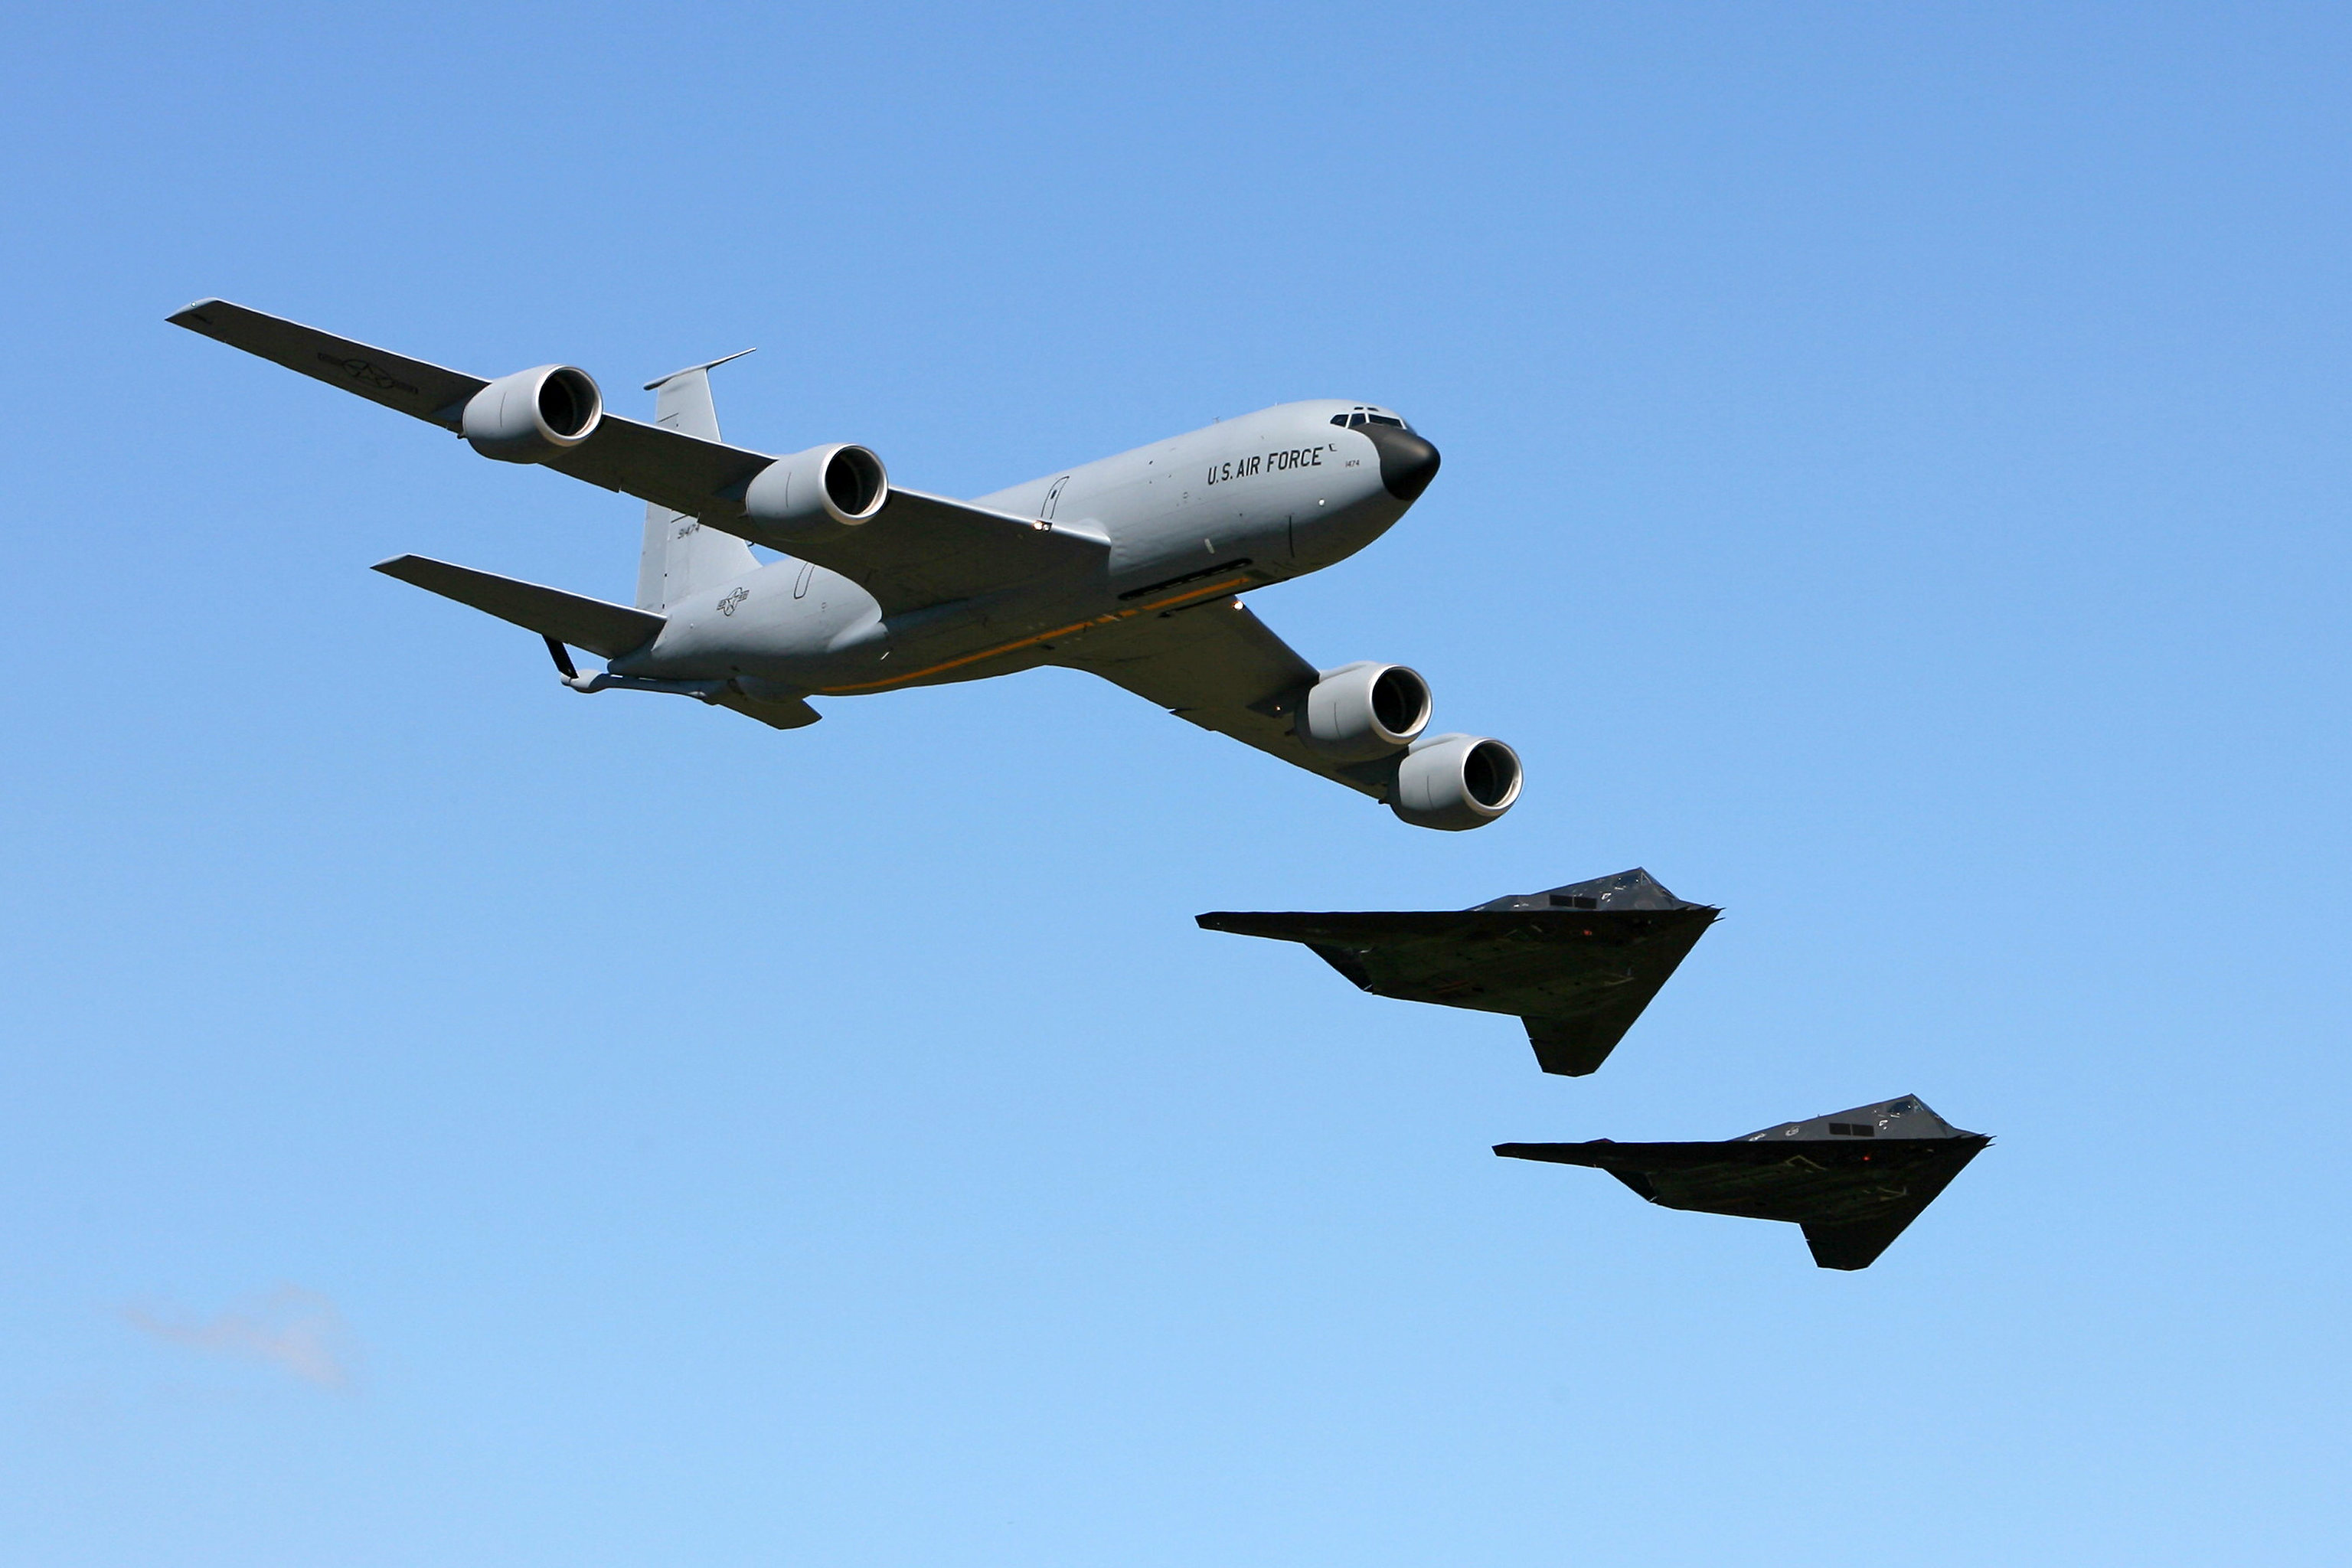airplane: (164, 297, 1524, 833), (1193, 866, 1727, 1078), (1491, 1092, 1997, 1272)
